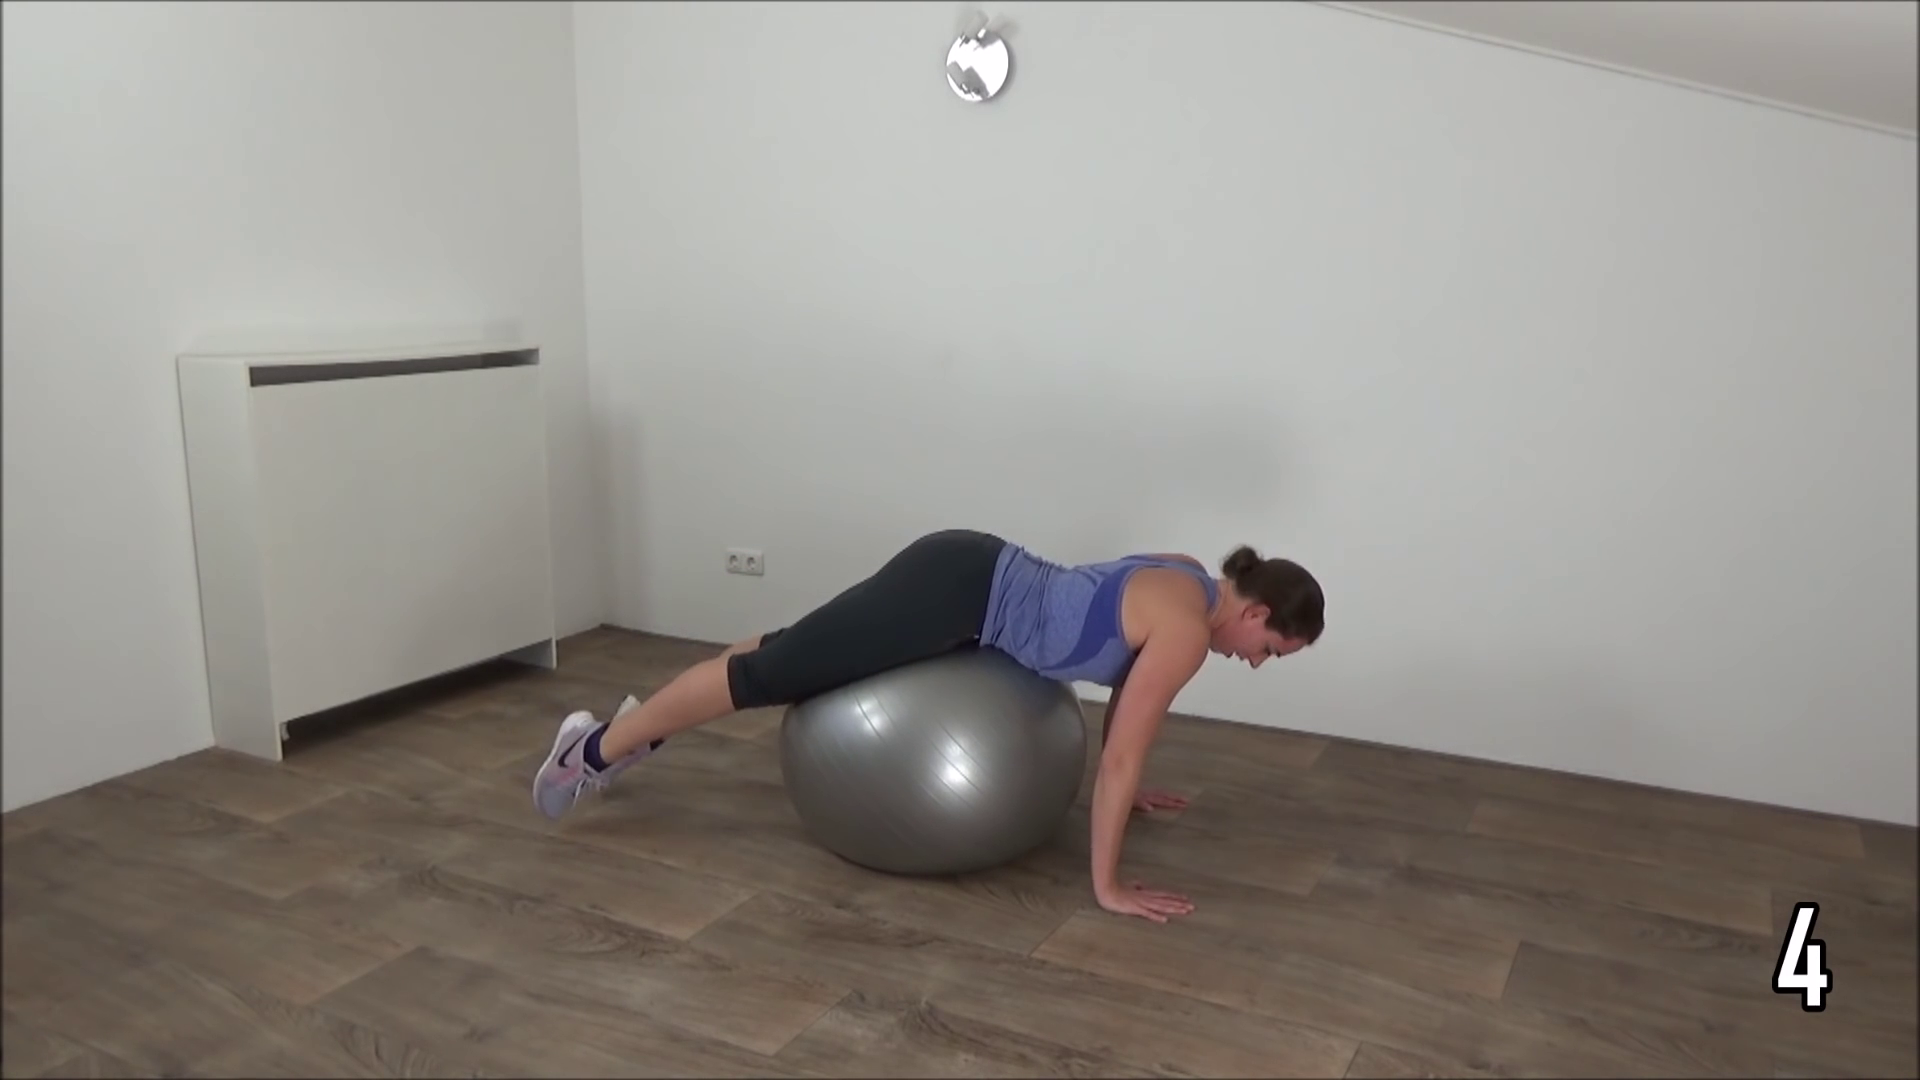yogaball: (770, 624, 1089, 884)
